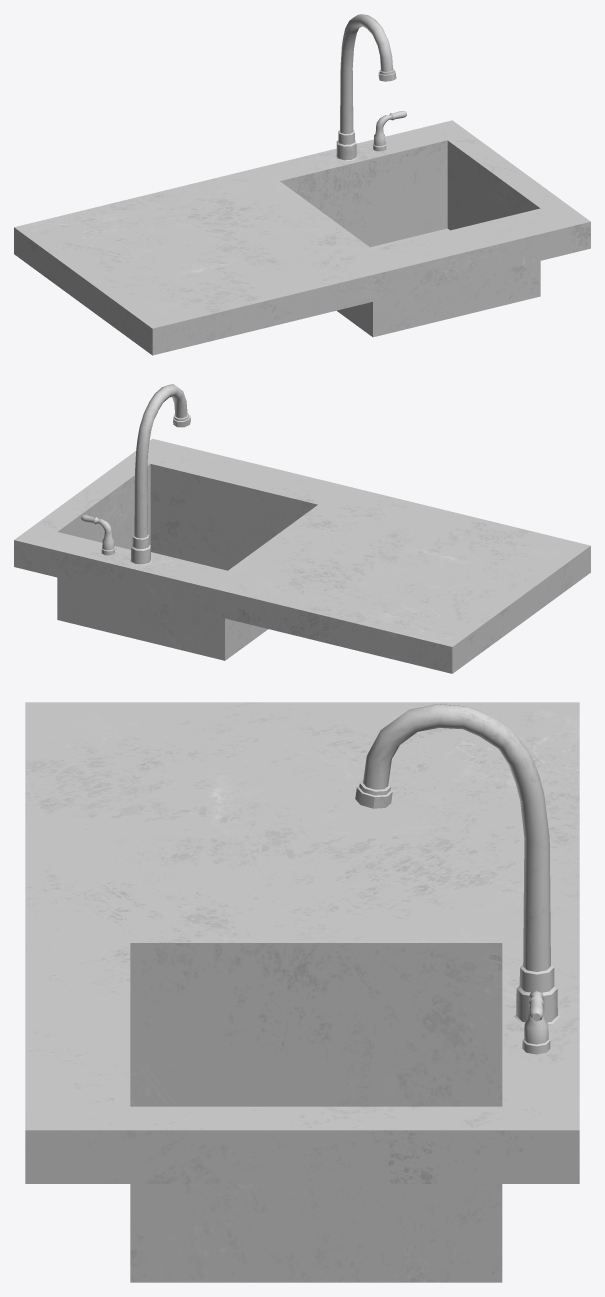
File: Kitchen_Sink.FBX
The picture shows the model from 3 angles, top to bottom: view 1: azimuth 30°, elevation 25°; view 2: azimuth 150°, elevation 25°; view 3: azimuth 270°, elevation 25°; orthographic projection. The views are drawn at different scales.
Visible parts, largest first — view 1: Lp-Sink(N); view 2: Lp-Sink(N); view 3: Lp-Sink(N).
Part boxes in pixels (x1,y1,x2,y2): Lp-Sink(N): (14, 14, 590, 355); Lp-Sink(N): (14, 384, 590, 673); Lp-Sink(N): (25, 702, 579, 1282).
Bounding box in the file's own units: 99.1 × 52.72 × 54.23.
1 material, 1 textured.
